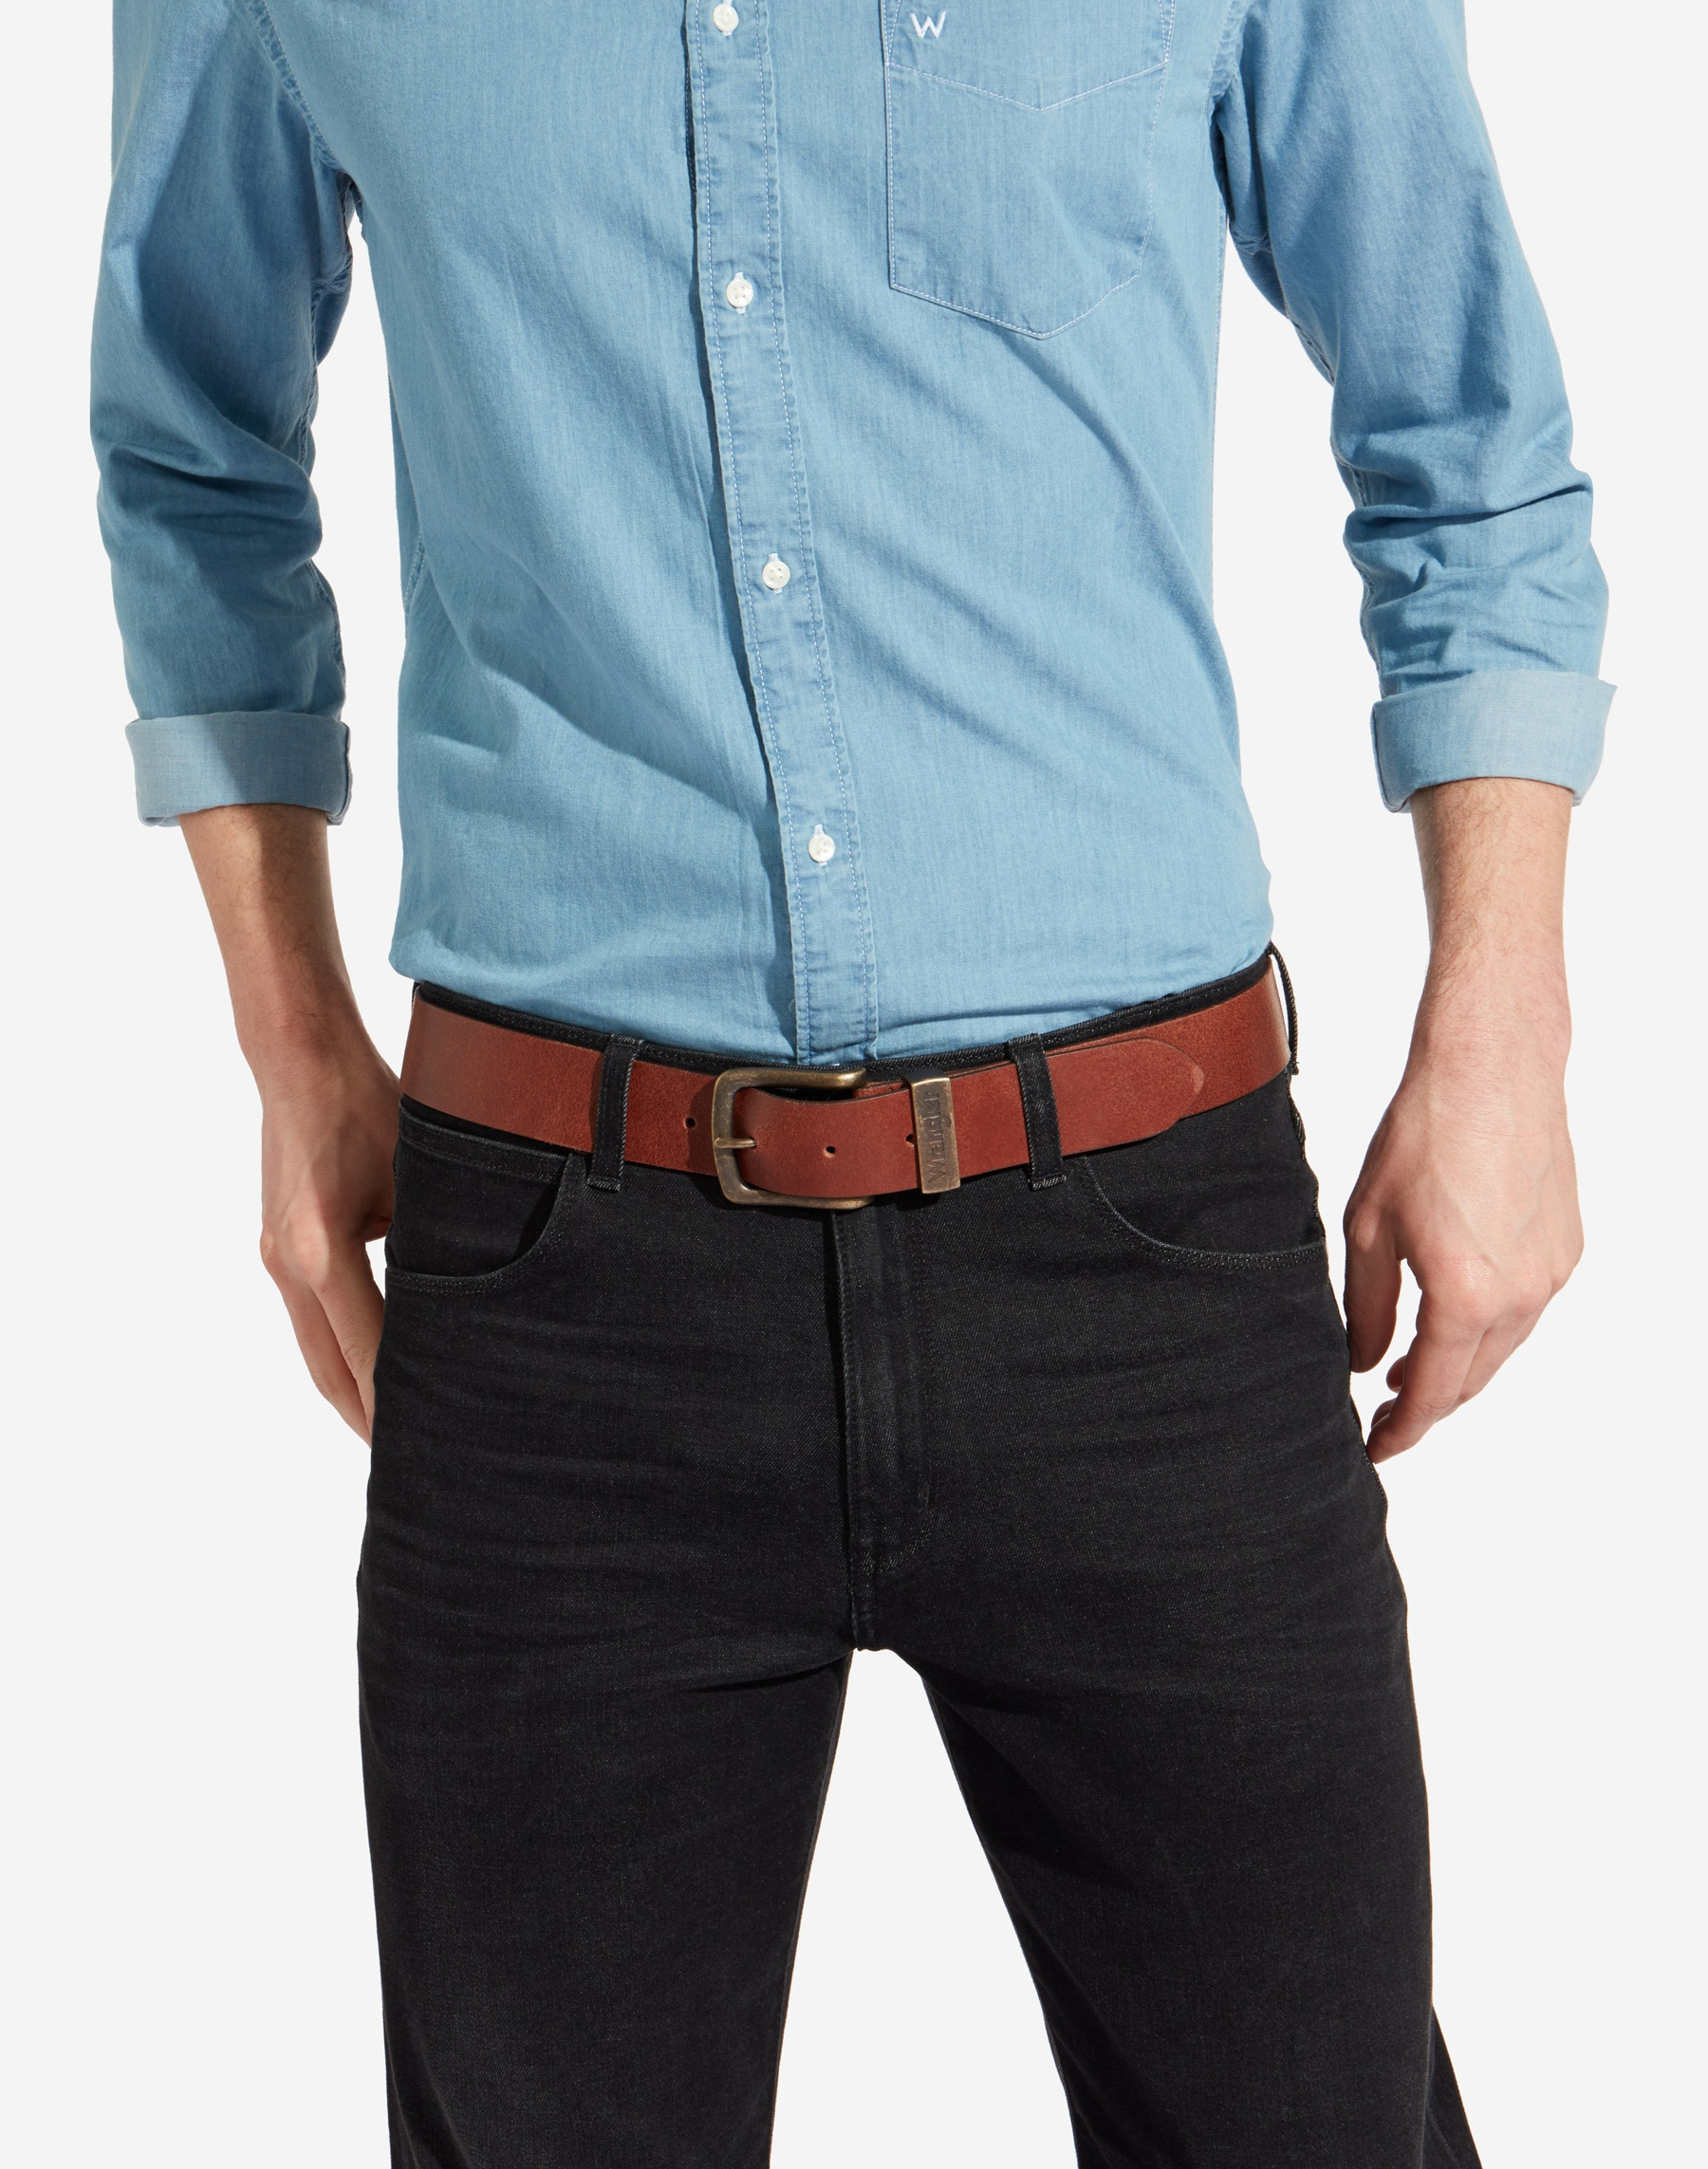C_jeans: (361, 1028, 1481, 2155)
F_belt: (379, 968, 1324, 1220)
F_shirt: (107, 2, 1606, 1005)
